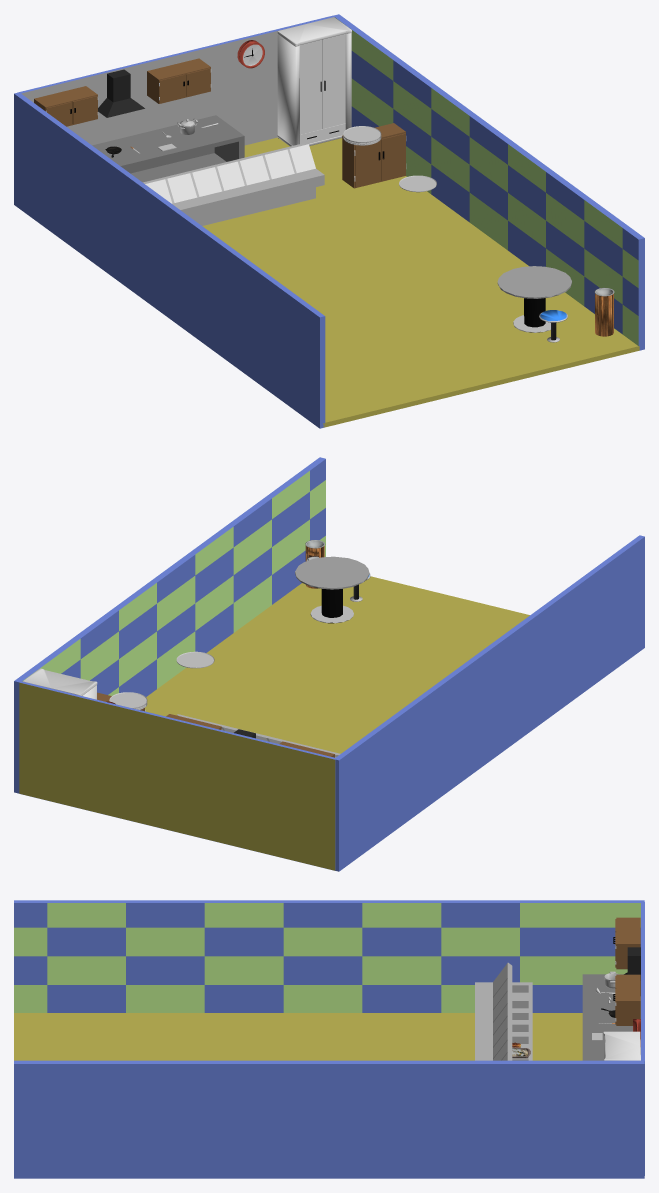
File: kitchen (2).fbx
3 views of the same model, one above another, from view 1: azimuth 30°, elevation 25°; view 2: azimuth 150°, elevation 25°; view 3: azimuth 270°, elevation 25° (orthographic). The views are drawn at different scales.
Parts seen in each view (by area): view 1: Cube.007, Cube.001, Cube.002, Cube.010, Circle.013, Wardrobe.002, Cube.108, Wardrobe.004, Wardrobe.006, Cube.107, Cube.003, Wardrobe.001 (+3 smaller); view 2: Cube.007, Circle.013, Wardrobe.001; view 3: Cube.007, Cube.001, Cube.002, Cube.108, Cube.107, Wardrobe.001, Cube.003.
Part boxes in pixels (x1,y1,x2,y2): Cube.007: (14, 14, 644, 428); Cube.001: (143, 143, 324, 225); Cube.002: (92, 115, 244, 182); Cube.010: (342, 123, 406, 188); Circle.013: (497, 266, 571, 332); Wardrobe.002: (277, 34, 299, 145); Cube.108: (147, 58, 211, 103); Wardrobe.004: (322, 34, 345, 128); Wardrobe.006: (299, 39, 322, 134); Cube.107: (34, 86, 98, 126); Cube.003: (98, 69, 144, 117); Wardrobe.001: (277, 17, 351, 46); Cube.007: (14, 457, 644, 871); Circle.013: (295, 556, 369, 623); Wardrobe.001: (23, 668, 97, 695); Cube.007: (14, 900, 644, 1178); Cube.001: (475, 962, 532, 1060); Cube.002: (582, 974, 640, 1060); Cube.108: (613, 974, 640, 1025); Cube.107: (613, 917, 640, 969); Wardrobe.001: (603, 1031, 640, 1060); Cube.003: (624, 947, 640, 995).
Bounding box in the file's own units: 612 × 200 × 997.
